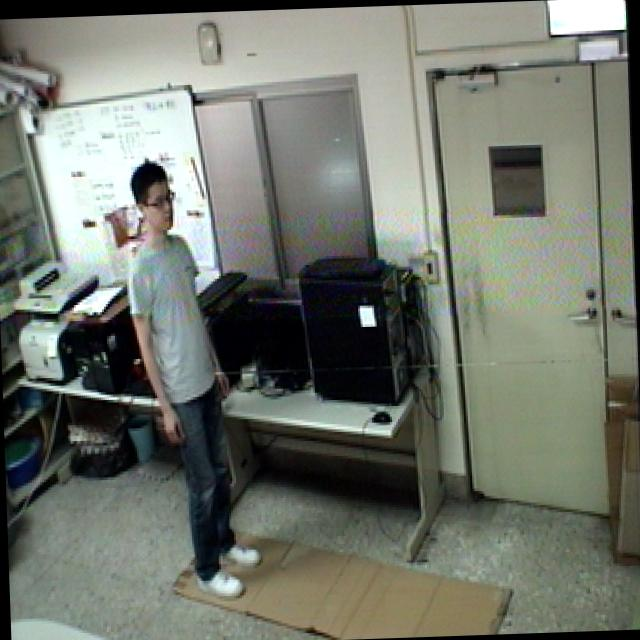stand: (114, 149, 269, 608)
